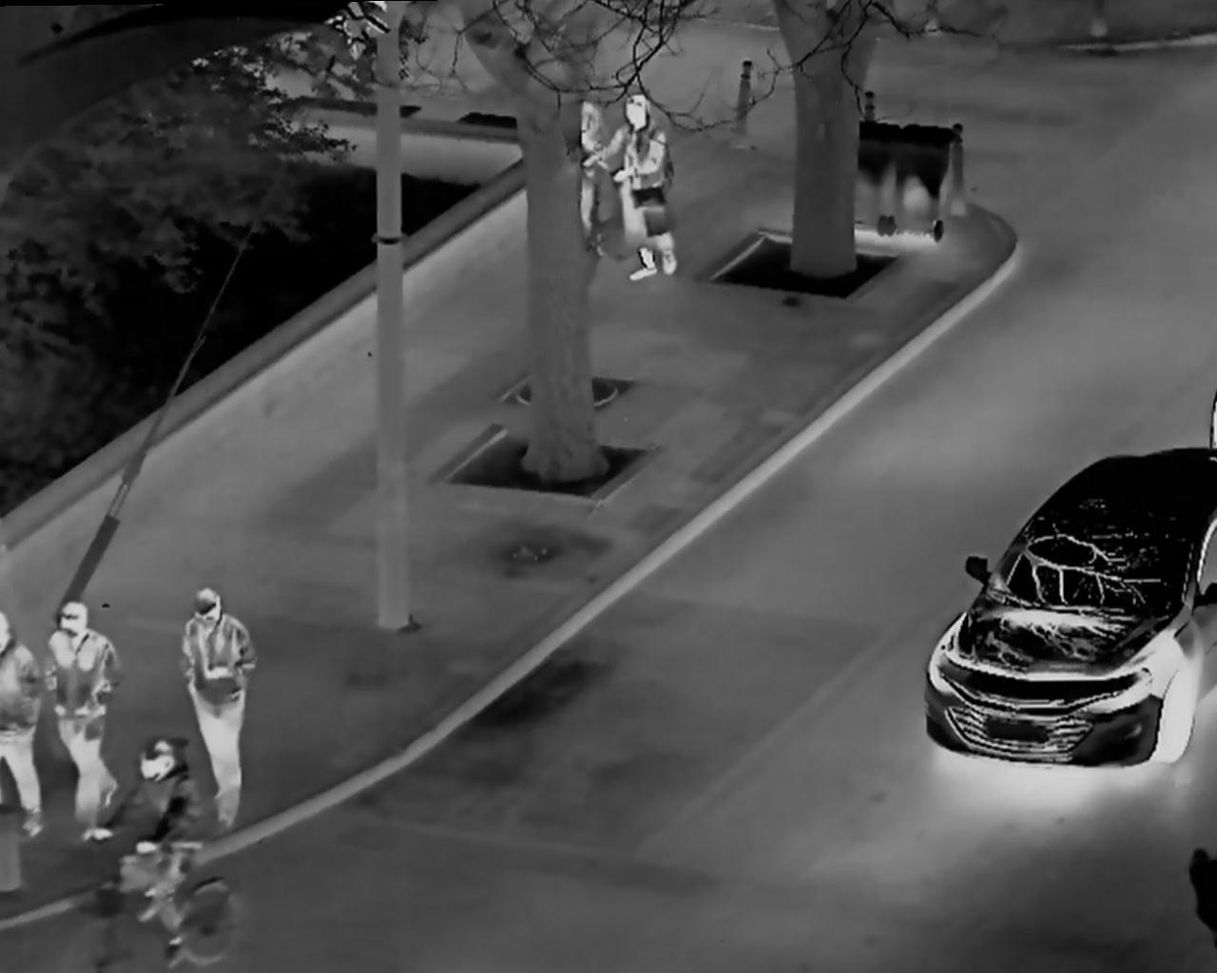person: (168, 582, 267, 831), (103, 735, 216, 951), (40, 590, 118, 841), (604, 86, 686, 287), (4, 606, 48, 837)
